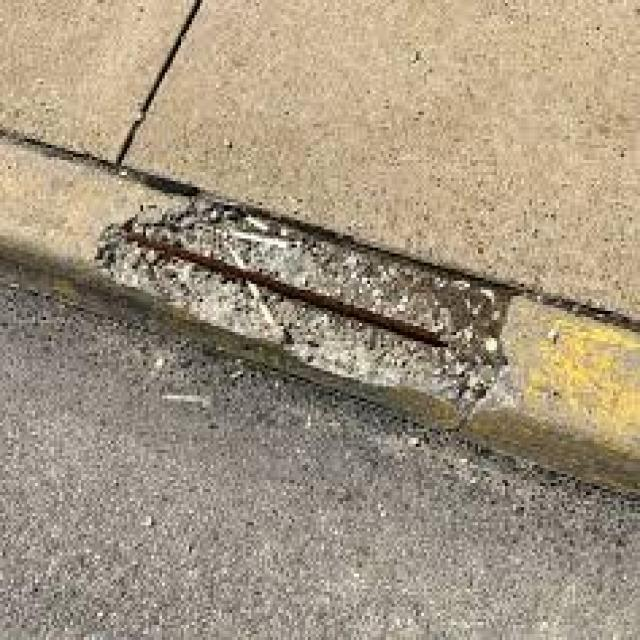curb: (5, 139, 640, 485)
